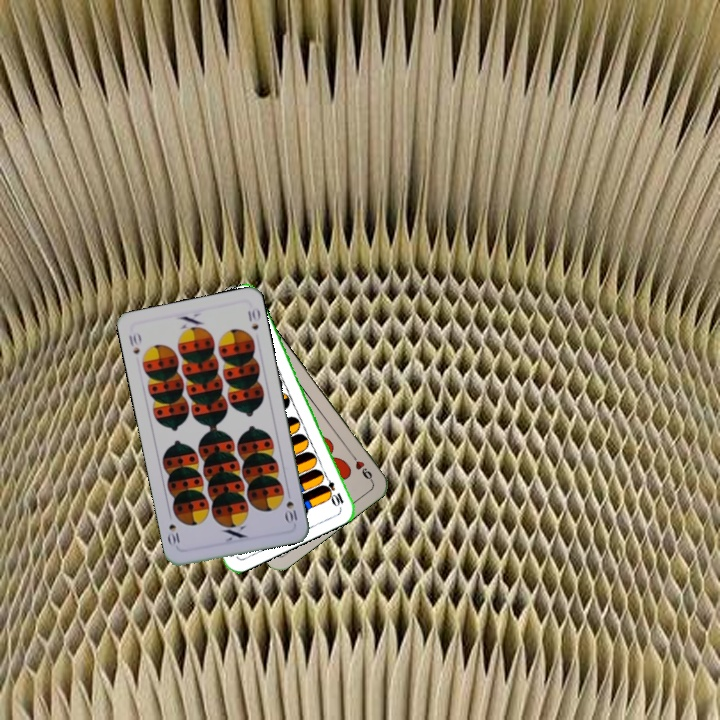E10: (319, 470, 346, 508)
H9: (346, 449, 375, 484)
S10: (125, 328, 144, 356), (282, 497, 300, 526)
